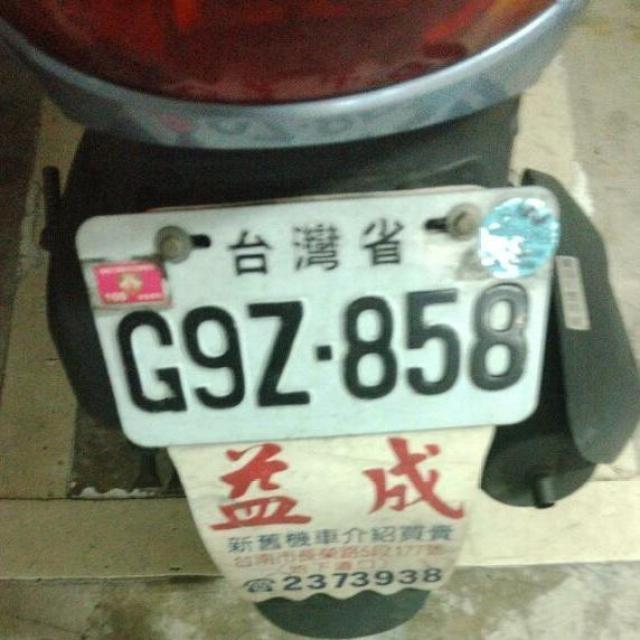W: (75, 154, 557, 492)
